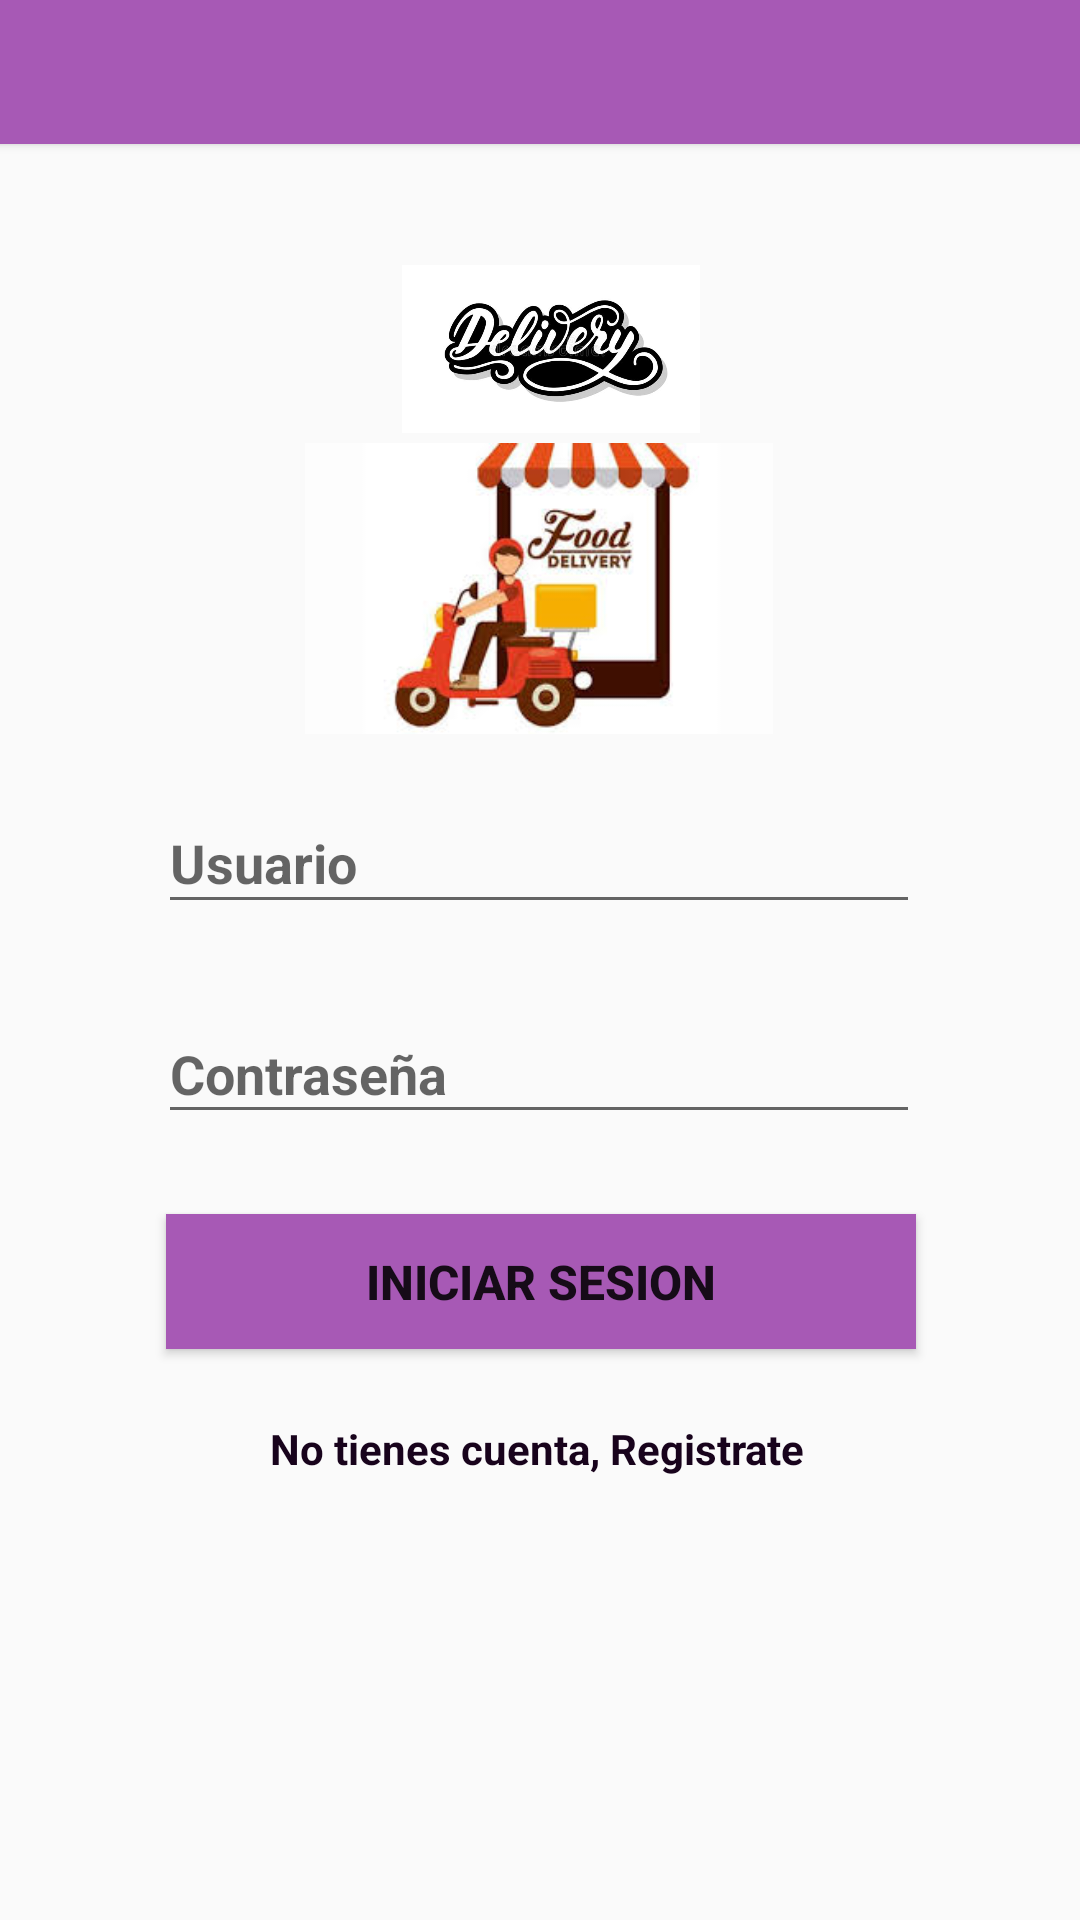

Icons on this 1080w x 1920h Android screen, each with its box as {"left": x1, "top": y1, "right": x2, "bottom": y2}:
moto: {"left": 394, "top": 443, "right": 691, "bottom": 728}
